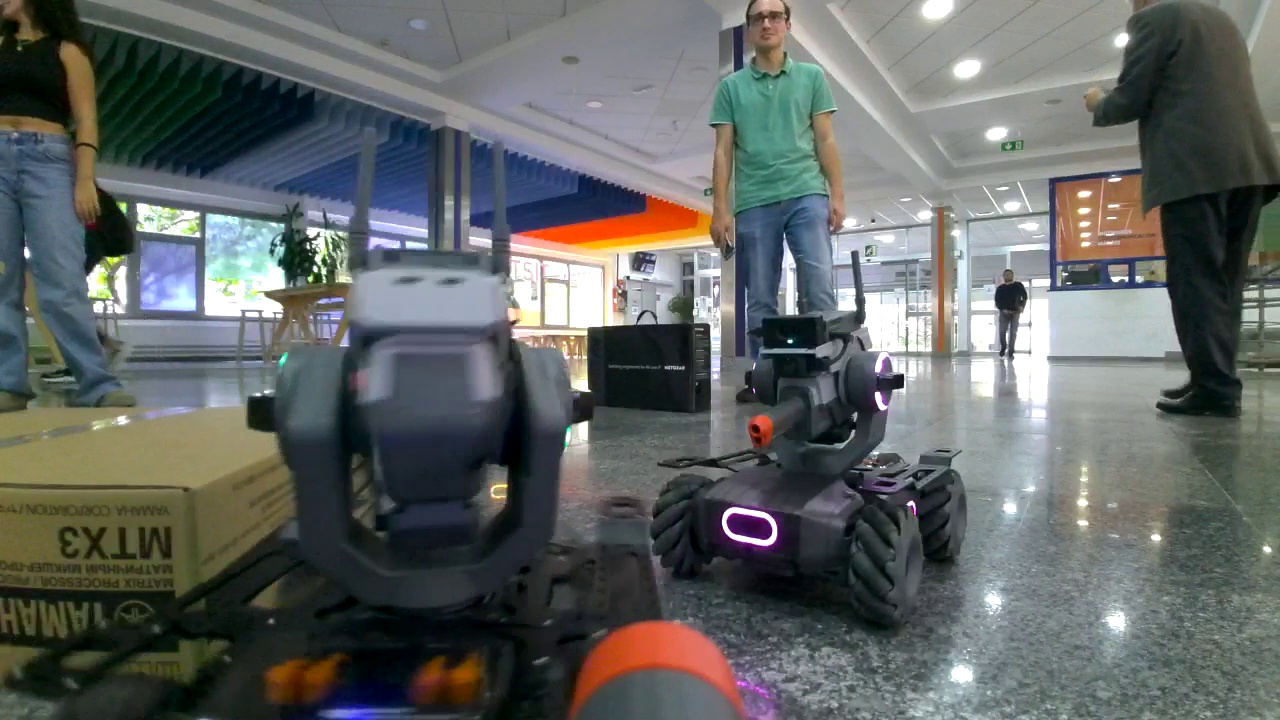robot: (647, 311, 969, 630)
